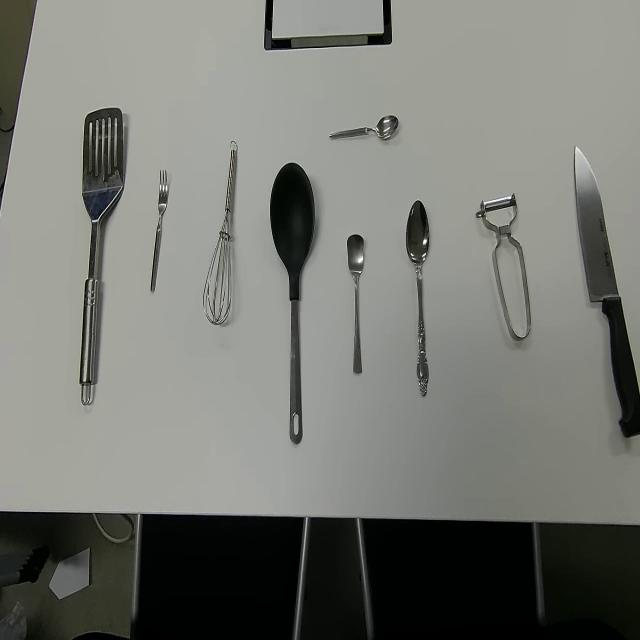Desert-Spoon: (405, 198, 431, 400)
Dinner-Fork: (149, 168, 169, 296)
Kitchen-Knife: (573, 142, 640, 442)
Peeler: (474, 192, 532, 341)
Serving-Spoon: (78, 105, 124, 407), (269, 160, 316, 446)
Tea-Spoon: (346, 233, 365, 376), (328, 113, 399, 142)
Whisk: (202, 139, 238, 327)
